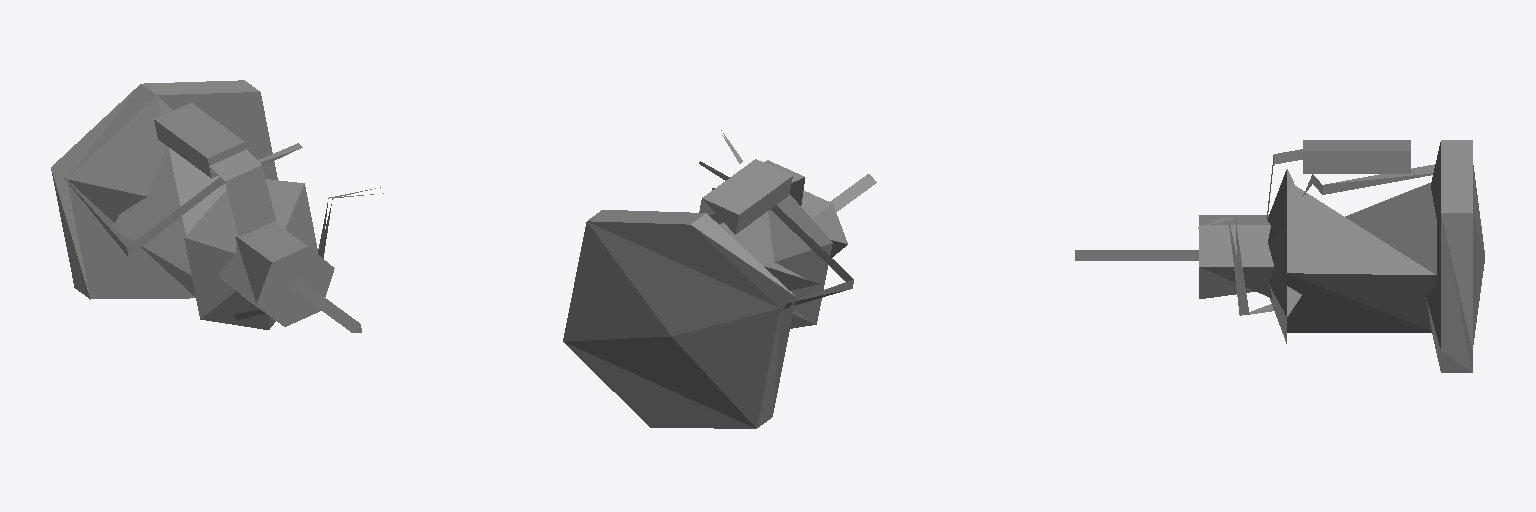
File: elockpickmk2.obj
3 views of the same model, side by side, from view 1: azimuth 30°, elevation 25°; view 2: azimuth 150°, elevation 25°; view 3: azimuth 270°, elevation 25° (orthographic).
Visible parts, largest first — view 1: Cube; view 2: Cube; view 3: Cube.
Boxes of the visible parts, x1,y1,x2,y2 form: Cube: [51, 80, 383, 332]; Cube: [563, 130, 876, 428]; Cube: [1075, 140, 1484, 372].
Size of the model in its own units: 2.1 by 1.96 by 3.43.